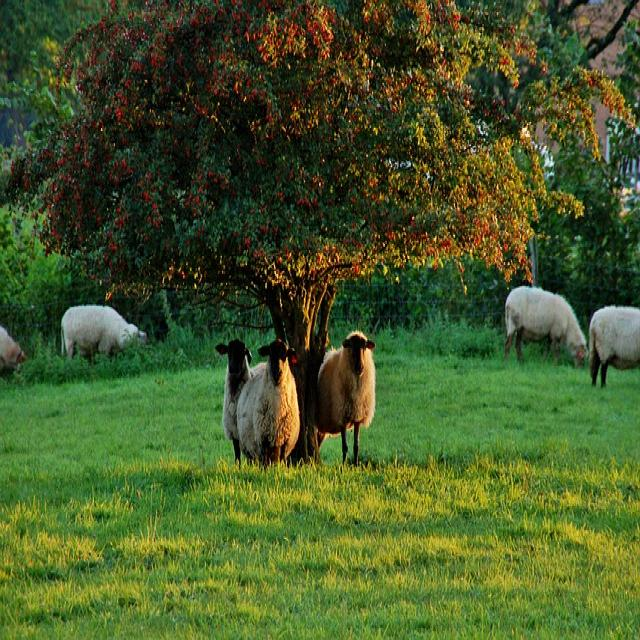sheep: (235, 337, 300, 467), (314, 330, 376, 465), (503, 284, 587, 368), (60, 303, 147, 363), (214, 338, 253, 466), (588, 304, 639, 387), (0, 324, 26, 375)
